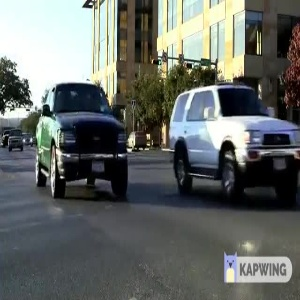suv: (169, 82, 300, 193)
truck: (32, 78, 131, 199)
